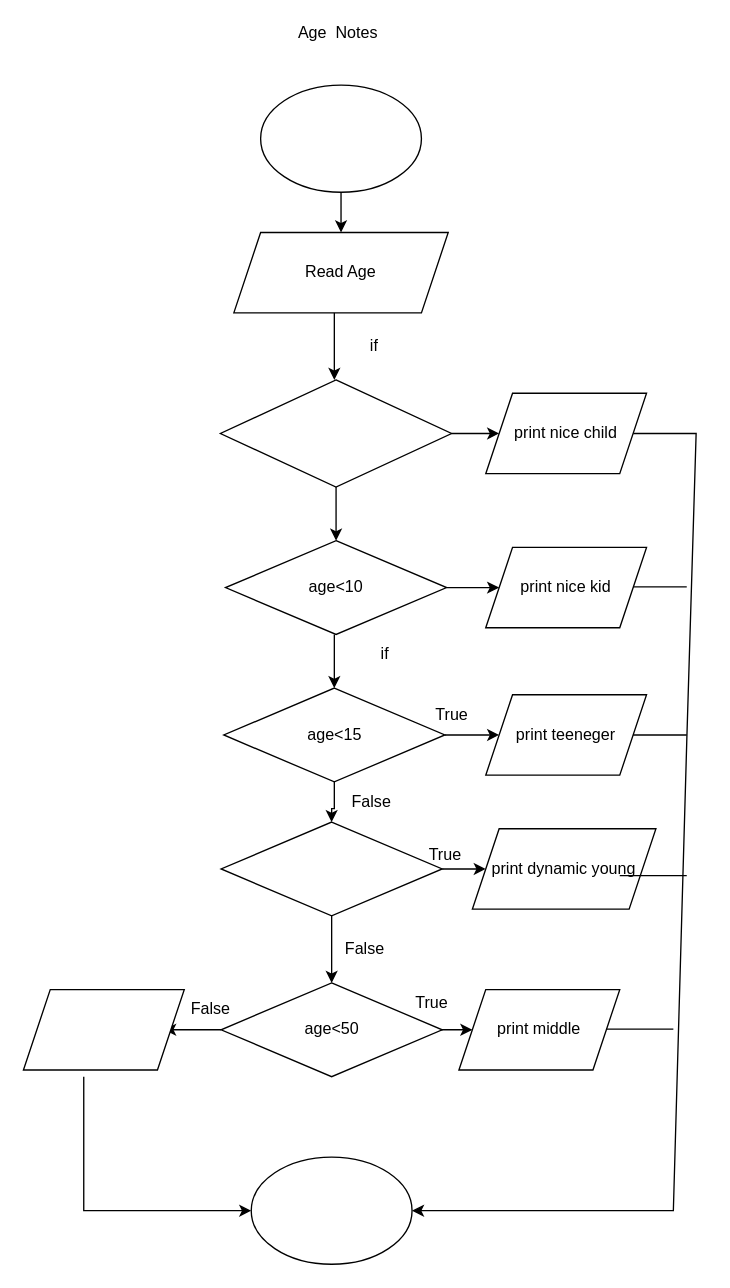
Image size: 730x1288. Some labels were removed from this diagram. The shapes that lost their labels are listed below. From the top down, each one's centre as x and y in pixels, then its label:
the point at 340,138: start
the point at 335,433: age<=5
the point at 331,868: age<25
the point at 103,1029: print old
the point at 331,1210: stop
